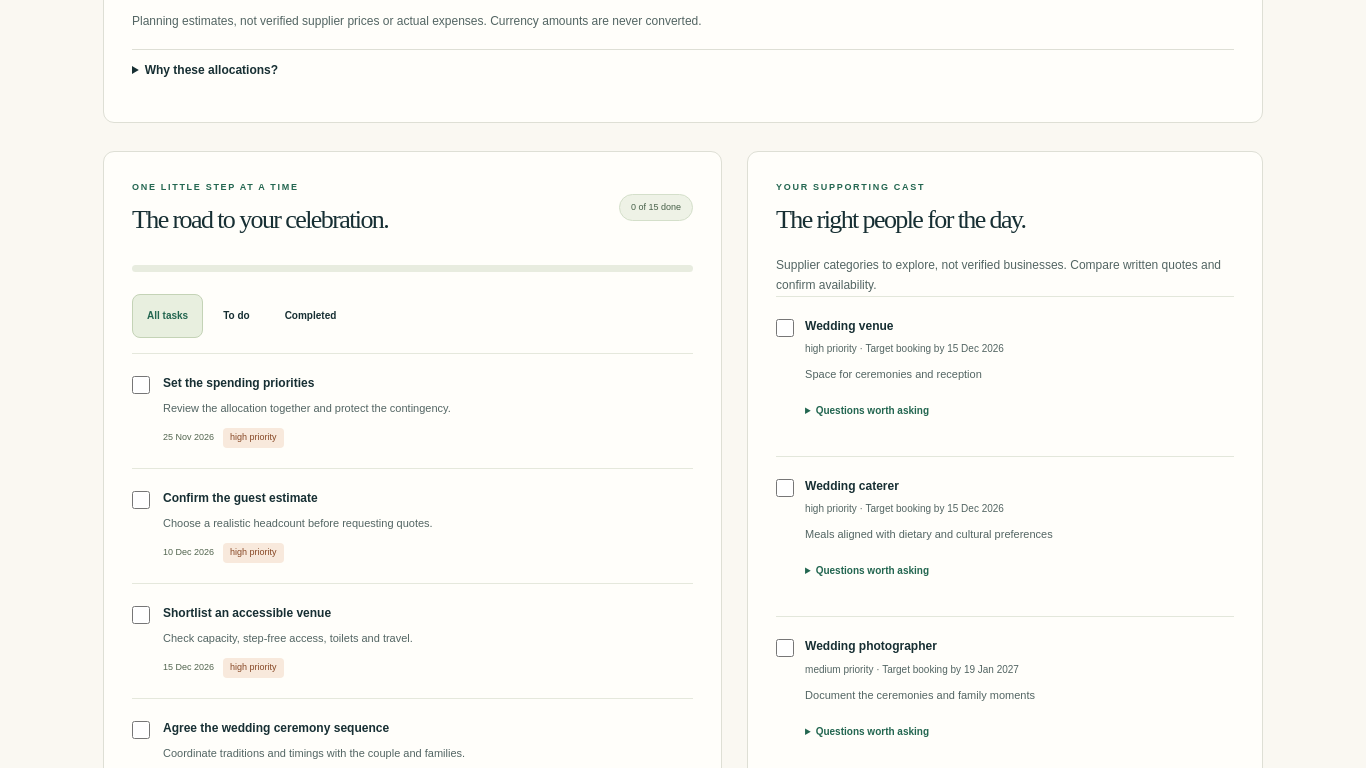
Test case: usable event blueprint › keeps edits in the tab and offers retry when saving fails
(page scrolled)
Click the checkbox labelled "Set the spending priorities". click: (141,385)
box: [132,376,150,394]
(page scrolled)
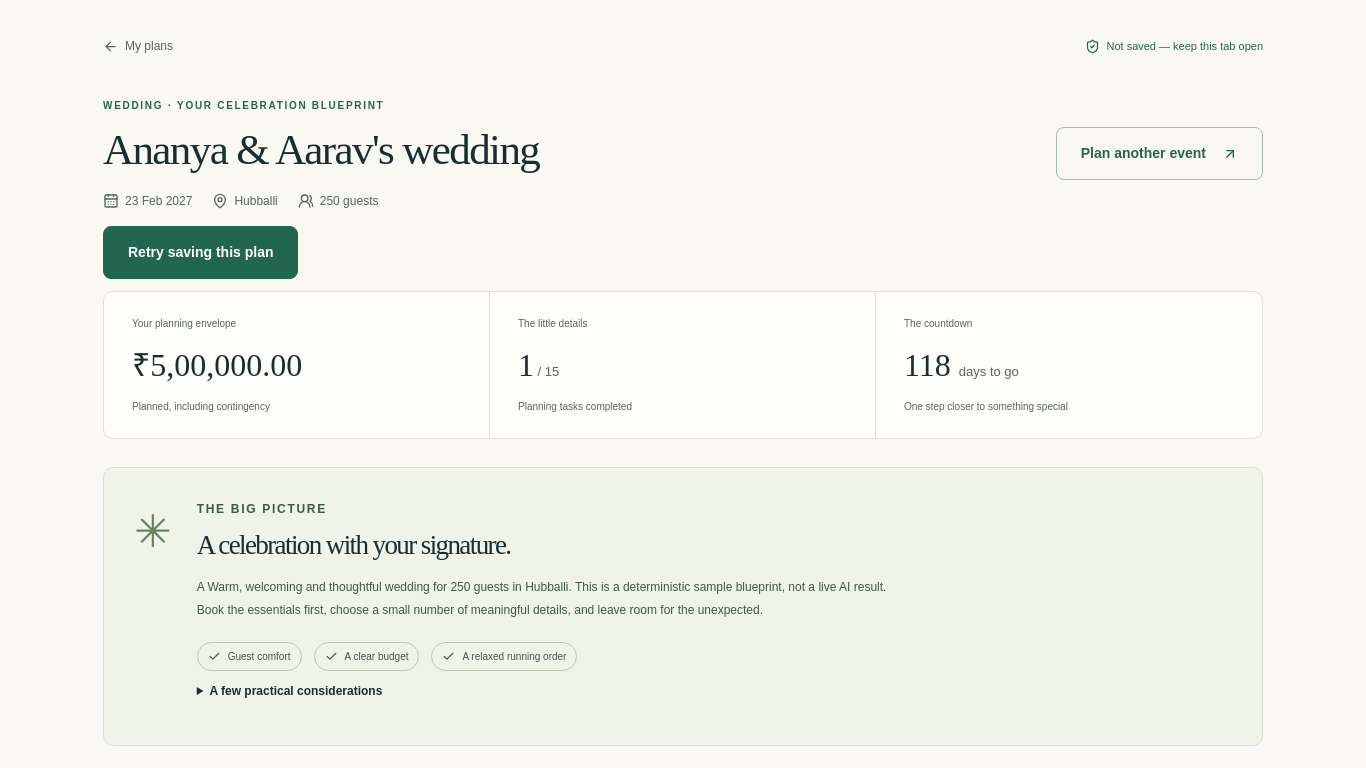
Expected: the button "Retry saving this plan" is shown
Click the button "Retry saving this plan". click: (201,253)
box: [103,226,298,279]
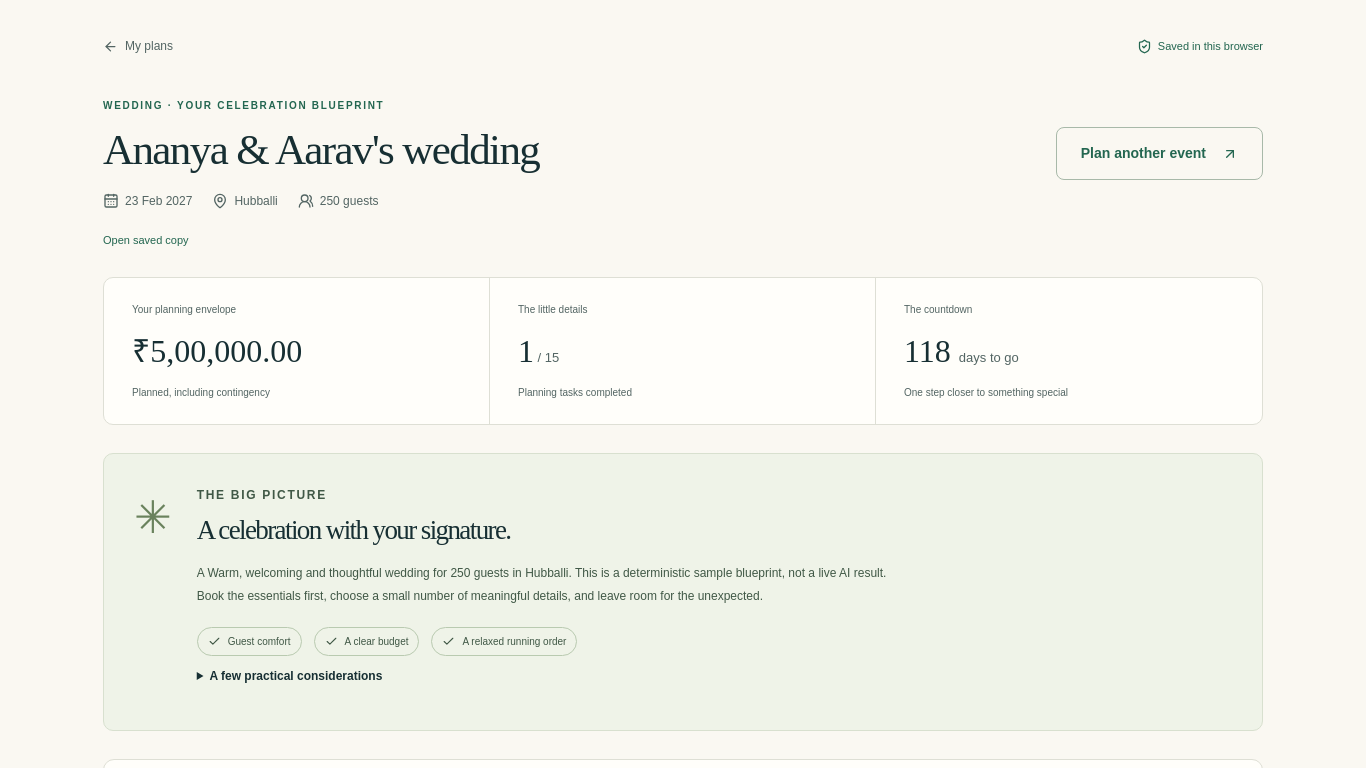
Expected: the button "Retry saving this plan" is gone
